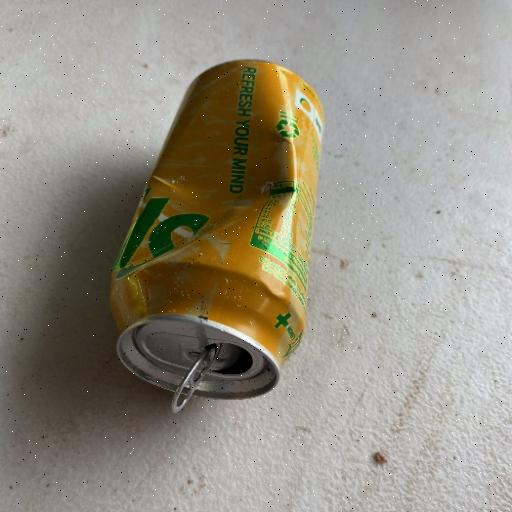Metal: (106, 57, 326, 411)
